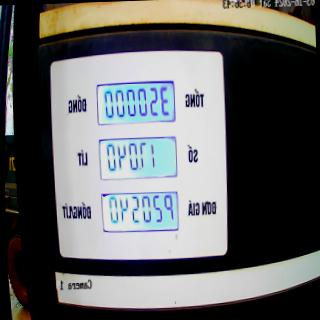screen: (96, 76, 182, 236)
